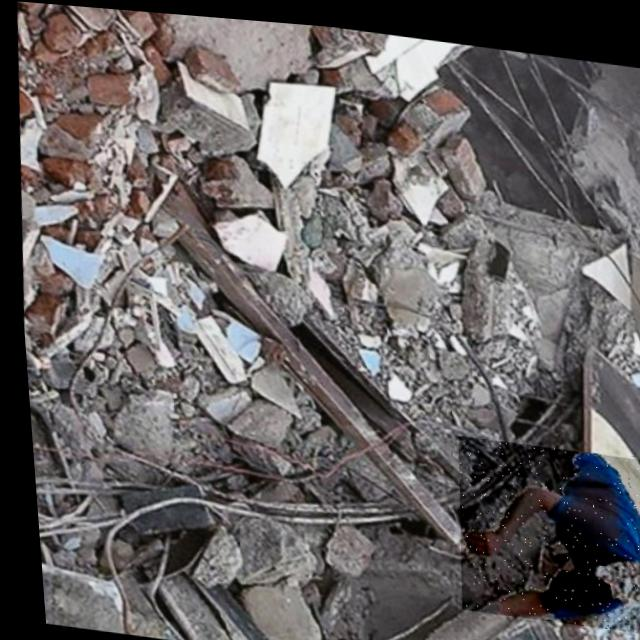Person in Rubble: (442, 427, 640, 625)
